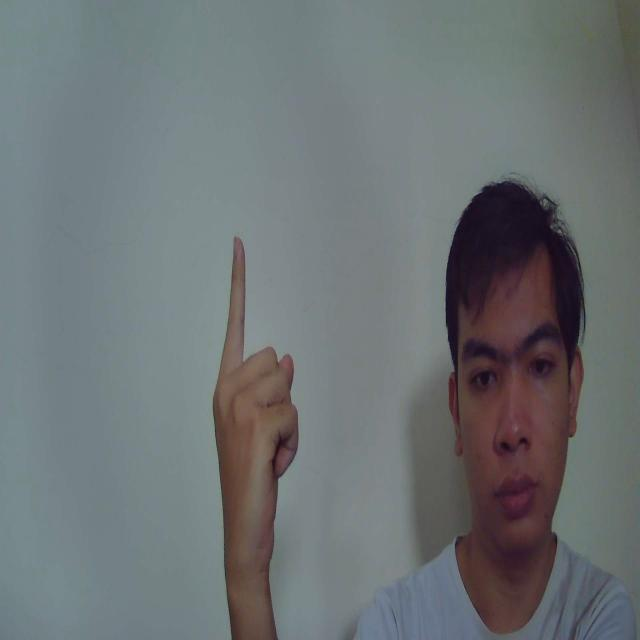D: (213, 238, 300, 573)
